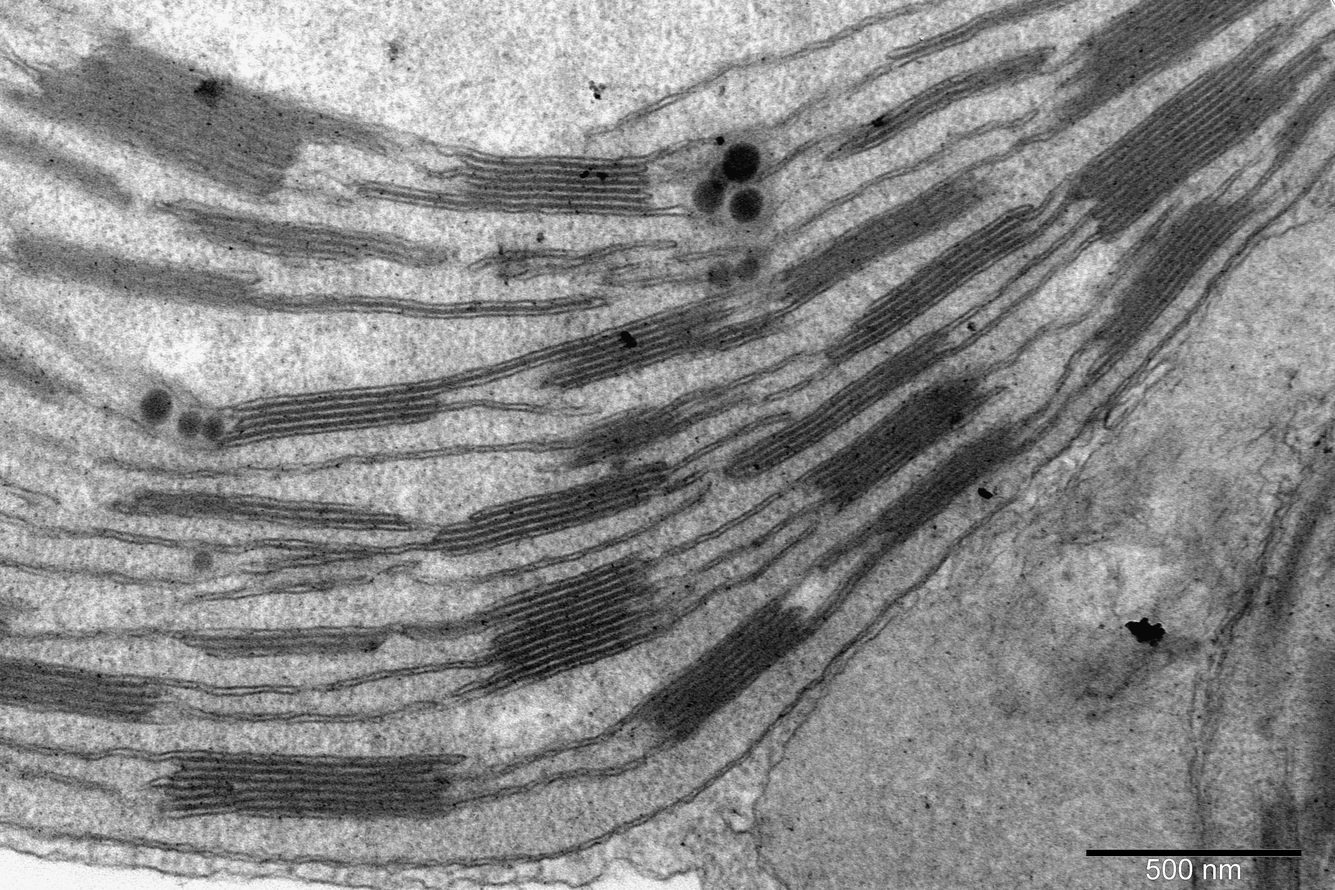granum: (26, 23, 392, 208), (1060, 15, 1331, 246), (396, 544, 685, 704), (720, 321, 962, 485), (770, 161, 1005, 313), (820, 209, 1032, 368), (794, 364, 999, 519), (1088, 190, 1271, 359), (629, 593, 820, 753), (1055, 0, 1279, 128), (539, 296, 792, 397), (429, 458, 674, 561), (842, 42, 1058, 157), (865, 409, 1028, 555), (7, 227, 273, 316), (162, 745, 458, 824), (172, 194, 450, 273), (455, 143, 657, 220), (227, 376, 444, 447), (0, 113, 136, 220), (0, 652, 190, 728), (129, 484, 376, 535), (570, 396, 692, 471), (0, 333, 85, 420), (1302, 639, 1335, 858), (201, 624, 383, 663), (1266, 67, 1335, 162), (1245, 800, 1302, 890), (492, 244, 536, 284), (280, 537, 331, 571)
